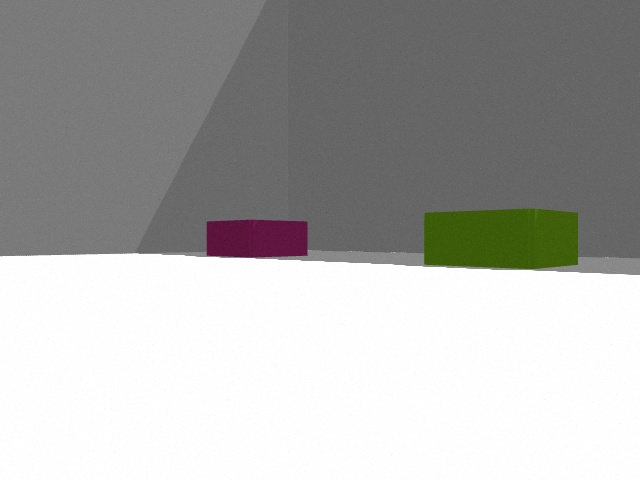green_drop_zone: (424, 209, 578, 269)
red_drop_zone: (207, 220, 308, 258)
